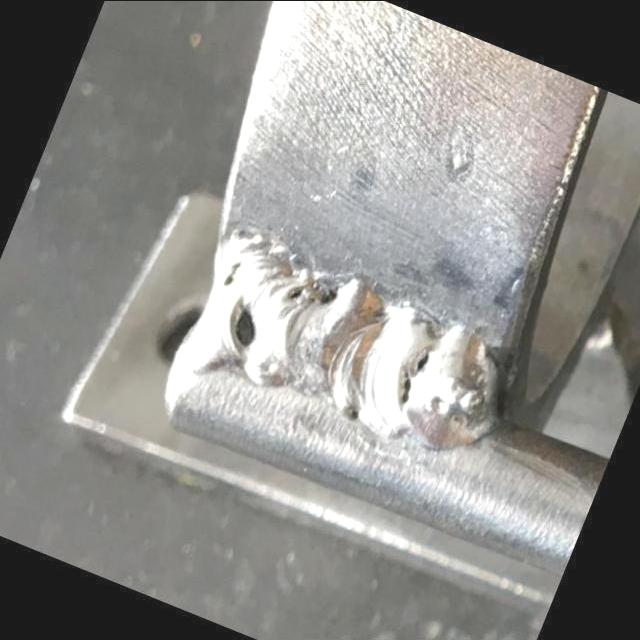defect: (219, 290, 260, 359), (395, 347, 435, 408), (280, 280, 338, 317), (348, 405, 362, 424)
